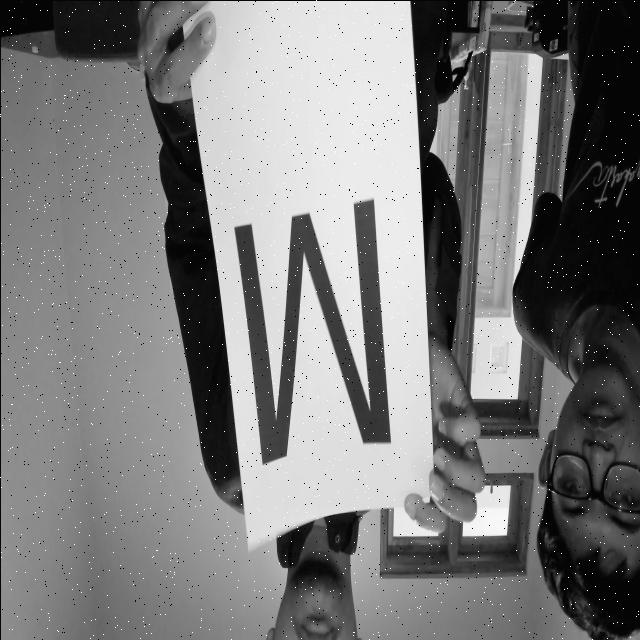m: (225, 185, 412, 476)
